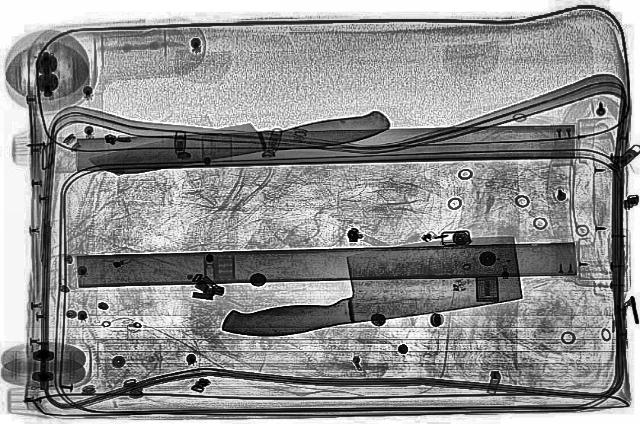Knife: (196, 227, 542, 347), (82, 100, 394, 182)
